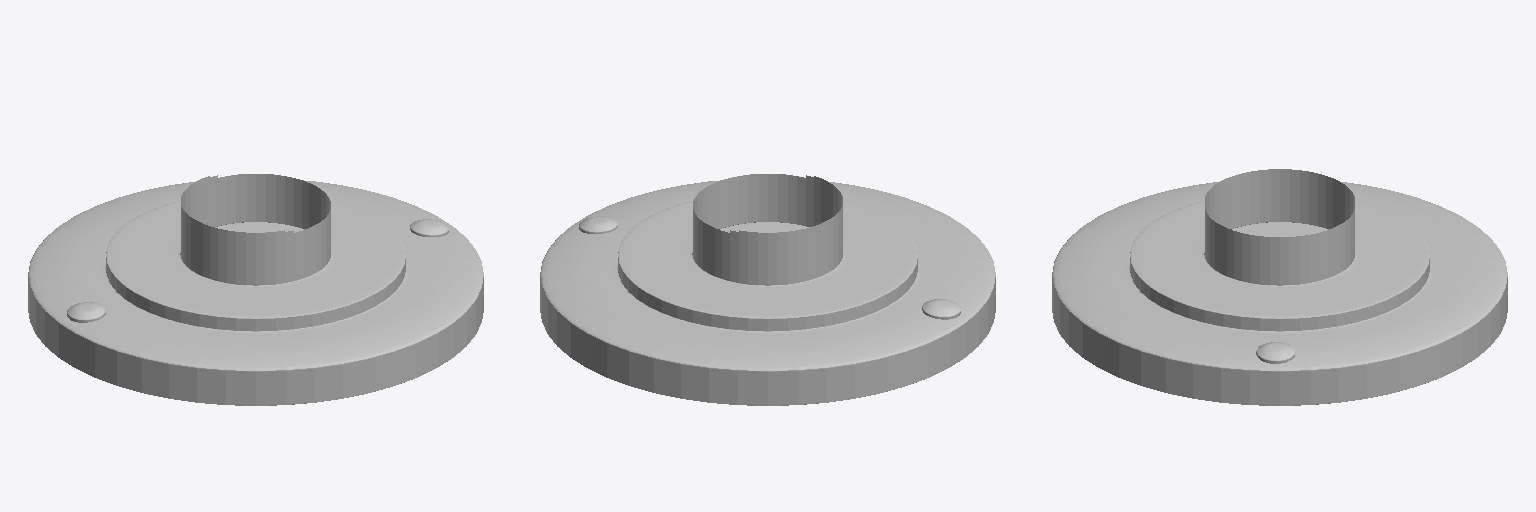
File: button_base2.obj
3 renders of one model, left to right at view 1: azimuth 30°, elevation 25°; view 2: azimuth 150°, elevation 25°; view 3: azimuth 270°, elevation 25°, orthographic.
Visible parts, largest first — view 1: emergencybutton_Circle; view 2: emergencybutton_Circle; view 3: emergencybutton_Circle.
Part boxes in pixels (left/top/right/bottom): emergencybutton_Circle: left=28, top=174, right=483, bottom=405; emergencybutton_Circle: left=540, top=174, right=995, bottom=405; emergencybutton_Circle: left=1052, top=169, right=1507, bottom=405.
Bounding box in the file's own units: 0.4143 × 0.1104 × 0.4143.